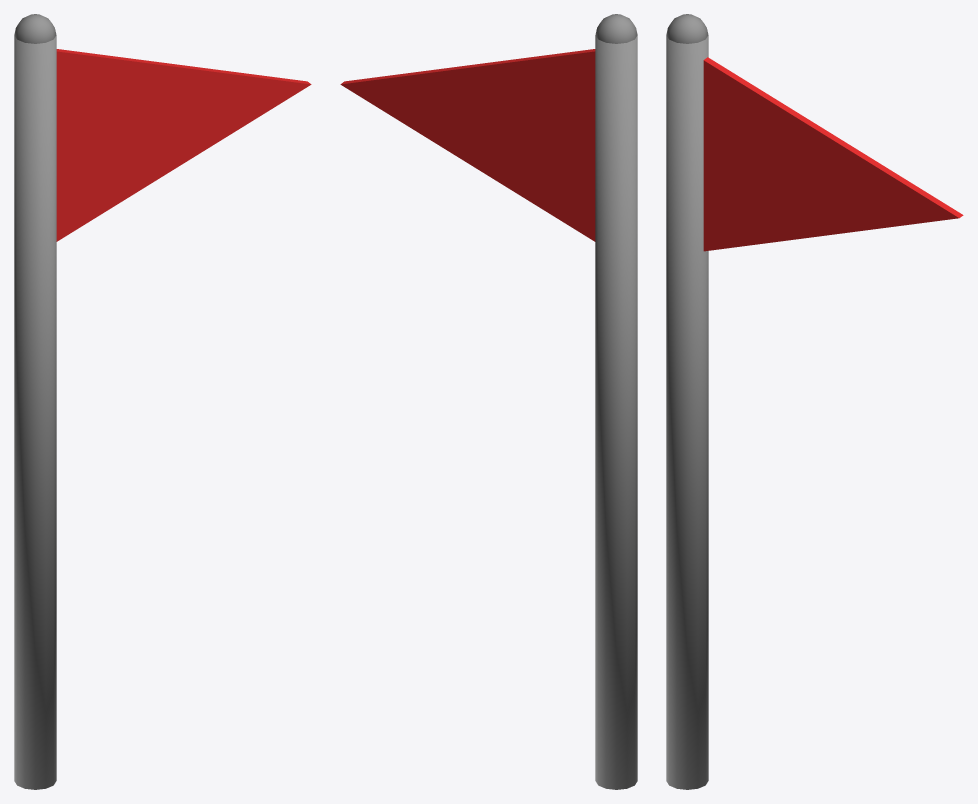
Rendered from goal_flag.glb.
The picture shows the model from 3 angles, left to right: view 1: azimuth 30°, elevation 25°; view 2: azimuth 150°, elevation 25°; view 3: azimuth 330°, elevation 25°; orthographic projection.
Visible parts, largest first — view 1: flag_pole, flag_cloth, flag_finial; view 2: flag_pole, flag_cloth, flag_finial; view 3: flag_pole, flag_cloth, flag_finial.
Part boxes in pixels (x1,y1,x2,y2): flag_pole: (14, 35, 56, 789); flag_cloth: (56, 49, 311, 241); flag_finial: (14, 14, 56, 43); flag_pole: (595, 35, 637, 789); flag_cloth: (340, 49, 595, 241); flag_finial: (595, 14, 637, 43); flag_pole: (666, 35, 708, 789); flag_cloth: (703, 57, 963, 251); flag_finial: (666, 14, 708, 43).
Bounding box in the file's own units: 0.8 × 2 × 0.1.
